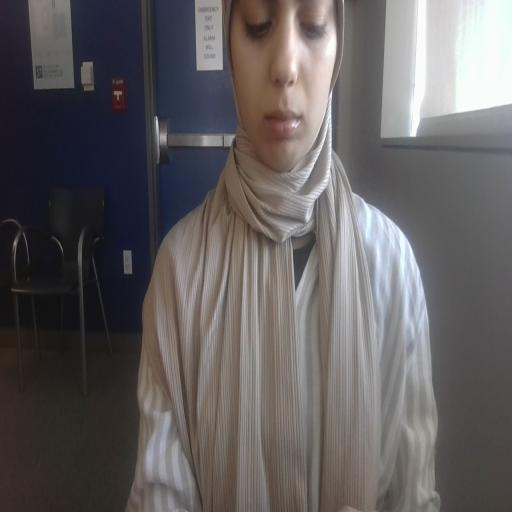objects: (229, 0, 338, 171)
